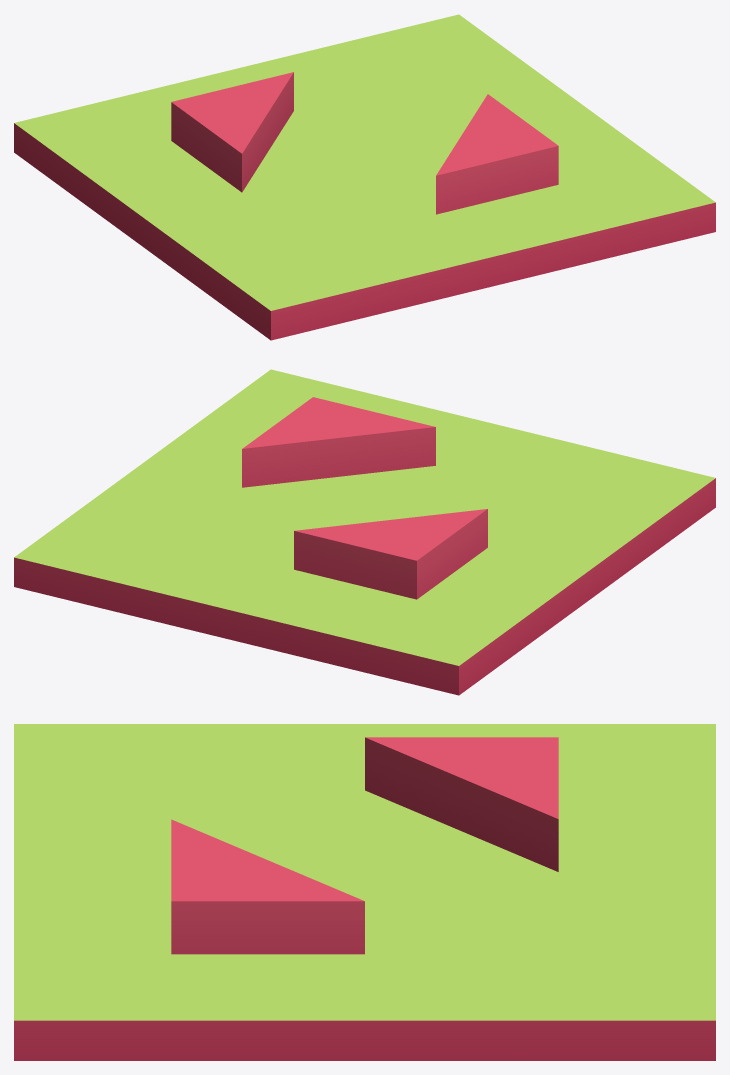
The model's file is obstacle-triangle.gltf.
The picture shows the model from 3 angles, top to bottom: view 1: azimuth 30°, elevation 25°; view 2: azimuth 150°, elevation 25°; view 3: azimuth 270°, elevation 25°; orthographic projection. The views are drawn at different scales.
Parts seen in each view (by area): view 1: obstacle-triangle; view 2: obstacle-triangle; view 3: obstacle-triangle.
Part boxes in pixels (box(x1,y1,x2,y2)): obstacle-triangle: box(14, 14, 715, 340); obstacle-triangle: box(14, 369, 715, 695); obstacle-triangle: box(14, 724, 715, 1060).
Size of the model in its own units: 0.9999 by 0.1467 by 0.9999.
1 material, 1 textured.
